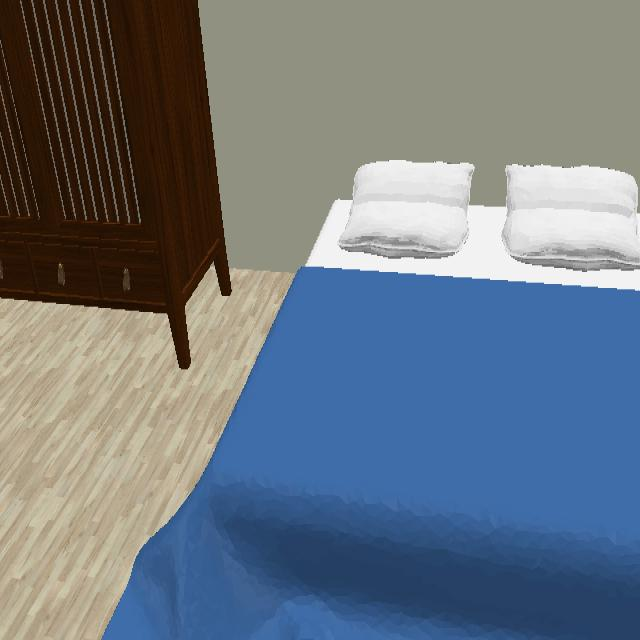bed: (102, 203, 640, 640)
pillow: (501, 164, 640, 275), (338, 160, 476, 260)
